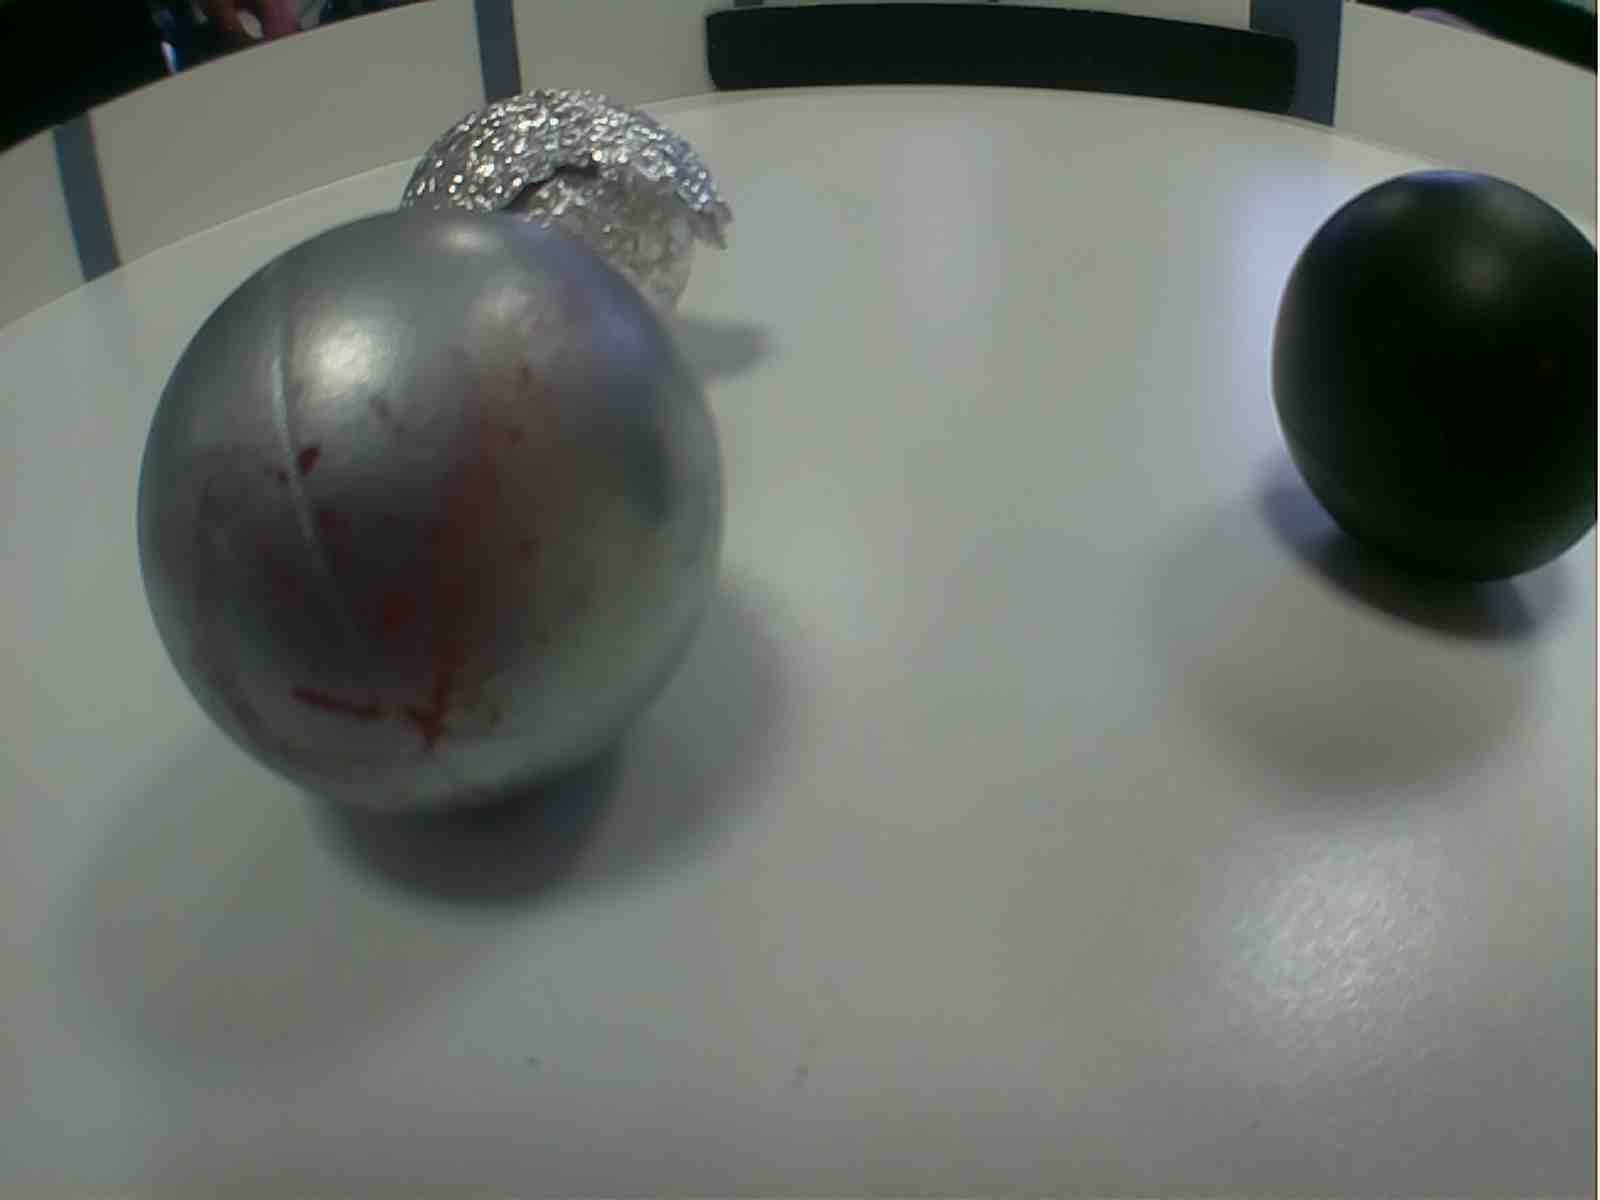bianca: (136, 205, 734, 819), (380, 83, 709, 366)
nera: (1269, 164, 1600, 586)
